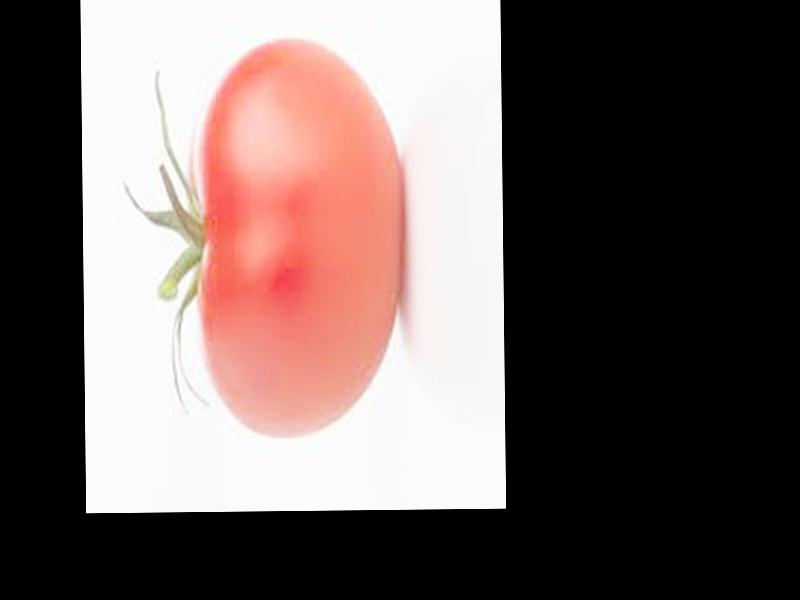Tomato: (194, 37, 404, 435)
